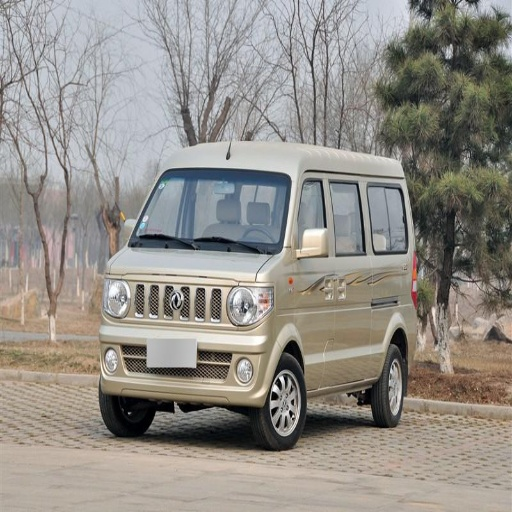back_left_door: (328, 175, 406, 378)
front_bumper: (100, 278, 280, 404)
front_glass: (130, 171, 290, 252)
front_left_door: (294, 173, 351, 386)
